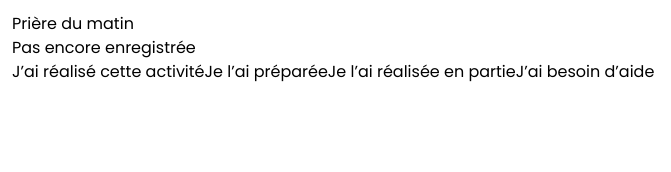
l’aide demandée ne réalise pas l’activité
Click the button "J’ai besoin d’aide" at x=585, y=72, box [516,60,654,84]
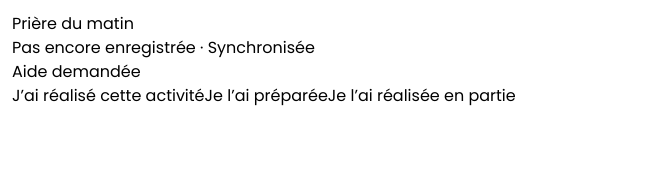
Expected: the text "Aide demandée" is shown, [12,60,141,83]
Expected: the text "Pas encore enregistrée · Synchronisée" is shown, [12,36,315,59]
